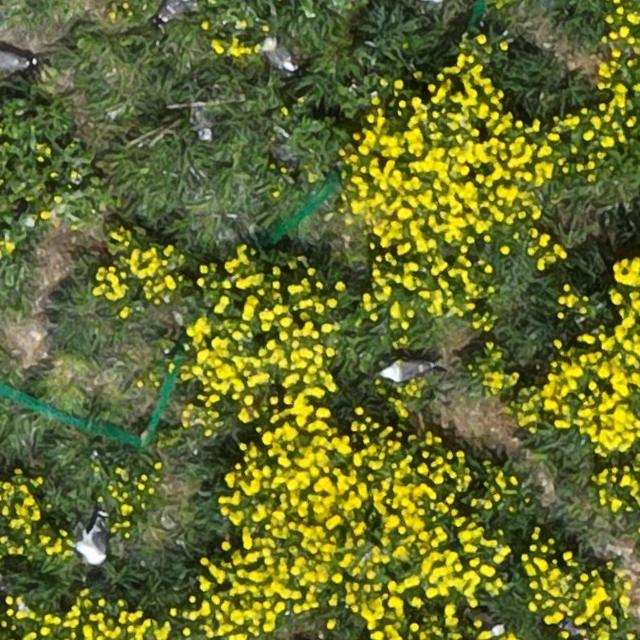umineko: (78, 525, 105, 563), (383, 361, 427, 381), (264, 44, 293, 71), (159, 1, 191, 20), (1, 52, 27, 73)
